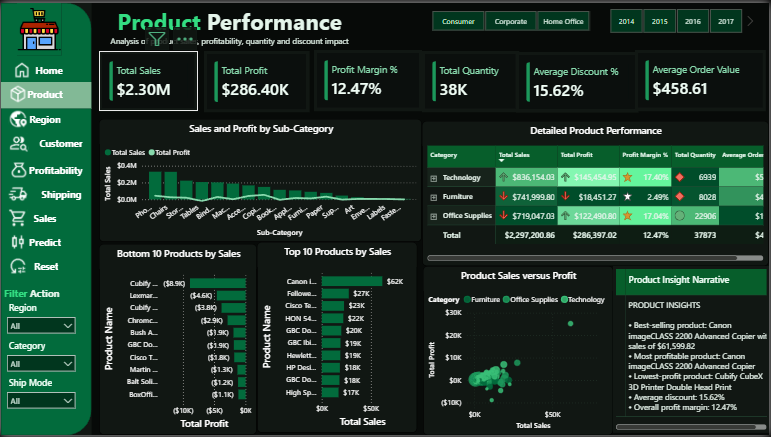

The dashboard page shown, as its layout file describes it:
{"tool":"powerbi","page":{"name":"Product Performance","canvas":[1280,720],"ordinal":2},"visuals":[{"type":"textbox","box":[149.8,0,462.2,92.2],"z":0},{"type":"shape","box":[0,0,150.6,720.5],"z":1000},{"type":"cardVisual","fields":{"Data":["_Measures.Total Sales"]},"box":[164.2,79.2,164.2,100.8],"z":2000},{"type":"cardVisual","fields":{"Data":["_Measures.Total Profit"]},"box":[338.4,79.2,175.7,102.2],"z":3000},{"type":"lineClusteredColumnComboChart","title":"Sales and Profit by Sub-Category","fields":{"Y":["_Measures.Total Sales"],"Y2":["_Measures.Total Profit"],"Category":["DimProduct.Sub-Category"]},"box":[163.3,193.3,538.3,205],"z":4000},{"type":"cardVisual","fields":{"Data":["_Measures.Profit Margin %"]},"box":[521.3,77.8,180,101.7],"z":5000},{"type":"cardVisual","fields":{"Data":["_Measures.Total Quantity"]},"box":[701.3,79.2,161.7,101.7],"z":6000},{"type":"cardVisual","fields":{"Data":["_Measures.Average Discount %"]},"box":[858.2,82.1,204.5,100.8],"z":7000},{"type":"cardVisual","fields":{"Data":["_Measures.Average Order Value"]},"box":[1057.3,78.6,218.3,101.7],"z":8000},{"type":"clusteredBarChart","title":"Top 10 Products by Sales","fields":{"Y":["_Measures.Total Sales"],"Category":["DimProduct.Product Name"]},"box":[426.7,398.3,266.7,318.3],"z":9000},{"type":"scatterChart","title":"Product Sales versus Profit","fields":{"X":["_Measures.Total Sales"],"Y":["_Measures.Total Profit"],"Size":["_Measures.Total Quantity"],"Category":["DimProduct.Product Name"],"Series":["DimProduct.Category"]},"box":[702.7,437.8,316.8,282.2],"z":10000},{"type":"pivotTable","title":"Detailed Product Performance","fields":{"Values":["_Measures.Total Sales","_Measures.Total Profit","_Measures.Profit Margin %","_Measures.Total Quantity","_Measures.Average Order Value"],"Rows":["DimProduct.Category","DimProduct.Sub-Category","DimProduct.Product Name"]},"box":[702,196,578,242],"z":11000},{"type":"textbox","box":[0,468,160.9,35.4],"z":12000},{"type":"slicer","fields":{"Values":["DimLocation.Region"]},"box":[0,492.5,134.3,65],"z":13000},{"type":"slicer","fields":{"Values":["DimProduct.Category"]},"box":[0,554.4,134.3,62],"z":14000},{"type":"slicer","fields":{"Values":["DimShipMode.Ship Mode"]},"box":[0,616.3,134.3,59.1],"z":15000},{"type":"actionButton","title":"Home","box":[10.3,212.6,129.9,39.9],"z":16000},{"type":"actionButton","box":[8.9,417.8,134.3,39.9],"z":17000},{"type":"actionButton","title":"Home","box":[8.9,172.7,129.9,39.9],"z":18000},{"type":"actionButton","title":"Home","box":[10.3,258.4,129.9,39.9],"z":19000},{"type":"actionButton","title":"Home","box":[8.9,298.2,129.9,39.9],"z":20000},{"type":"shape","box":[0,131.4,150.6,44.3],"z":21000},{"type":"actionButton","title":"Home","box":[8.9,338.1,129.9,39.9],"z":22000},{"type":"actionButton","title":"Home","box":[8.9,377.9,129.9,39.9],"z":23000},{"type":"actionButton","title":"Home","box":[14.8,91.5,129.9,39.9],"z":24000},{"type":"actionButton","title":"Home","box":[8.9,131.4,129.9,39.9],"z":25000},{"type":"slicer","fields":{"Values":["DimDate.Year"]},"box":[989.3,2.9,269.3,53.3],"z":26000},{"type":"slicer","fields":{"Values":["DimCustomer.Segment"]},"box":[692.6,7.2,311,46.1],"z":27000},{"type":"clusteredBarChart","title":"Bottom 10 Products by Sales","fields":{"Category":["DimProduct.Product Name"],"Y":["_Measures.Total Profit"]},"box":[163.3,401.7,263.3,318.3],"z":28000},{"type":"pivotTable","fields":{"Values":["_Measures.Product Insight Narrative"]},"box":[1019.5,437.8,260.6,277.9],"z":29000},{"type":"image","box":[26.6,0,73.8,87.1],"z":30000}]}

Visuals, with their boxes on the page's 1280x720 design canvas (x1, y1, x2, y2). These are canvas units, not pixel positions in the 771x437 screenshot, which may show the page scaled, cropped or inside an application window:
textbox: 150:0:612:92
shape: 0:0:151:720
cardVisual - _Measures.Total Sales: 164:79:328:180
cardVisual - _Measures.Total Profit: 338:79:514:181
"Sales and Profit by Sub-Category" lineClusteredColumnComboChart: 163:193:702:398
cardVisual - _Measures.Profit Margin %: 521:78:701:180
cardVisual - _Measures.Total Quantity: 701:79:863:181
cardVisual - _Measures.Average Discount %: 858:82:1063:183
cardVisual - _Measures.Average Order Value: 1057:79:1276:180
"Top 10 Products by Sales" clusteredBarChart: 427:398:693:717
"Product Sales versus Profit" scatterChart: 703:438:1020:720
"Detailed Product Performance" pivotTable: 702:196:1280:438
textbox: 0:468:161:503
slicer - DimLocation.Region: 0:492:134:558
slicer - DimProduct.Category: 0:554:134:616
slicer - DimShipMode.Ship Mode: 0:616:134:675
"Home" actionButton: 10:213:140:252
actionButton: 9:418:143:458
"Home" actionButton: 9:173:139:213
"Home" actionButton: 10:258:140:298
"Home" actionButton: 9:298:139:338
shape: 0:131:151:176
"Home" actionButton: 9:338:139:378
"Home" actionButton: 9:378:139:418
"Home" actionButton: 15:92:145:131
"Home" actionButton: 9:131:139:171
slicer - DimDate.Year: 989:3:1259:56
slicer - DimCustomer.Segment: 693:7:1004:53
"Bottom 10 Products by Sales" clusteredBarChart: 163:402:427:720
pivotTable - _Measures.Product Insight Narrative: 1020:438:1280:716
image: 27:0:100:87
